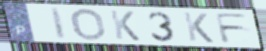3: (146, 11, 176, 43)
F: (213, 12, 251, 45)
I: (49, 7, 68, 41)
K: (181, 11, 216, 45), (108, 9, 142, 42)
O: (70, 8, 108, 42)
